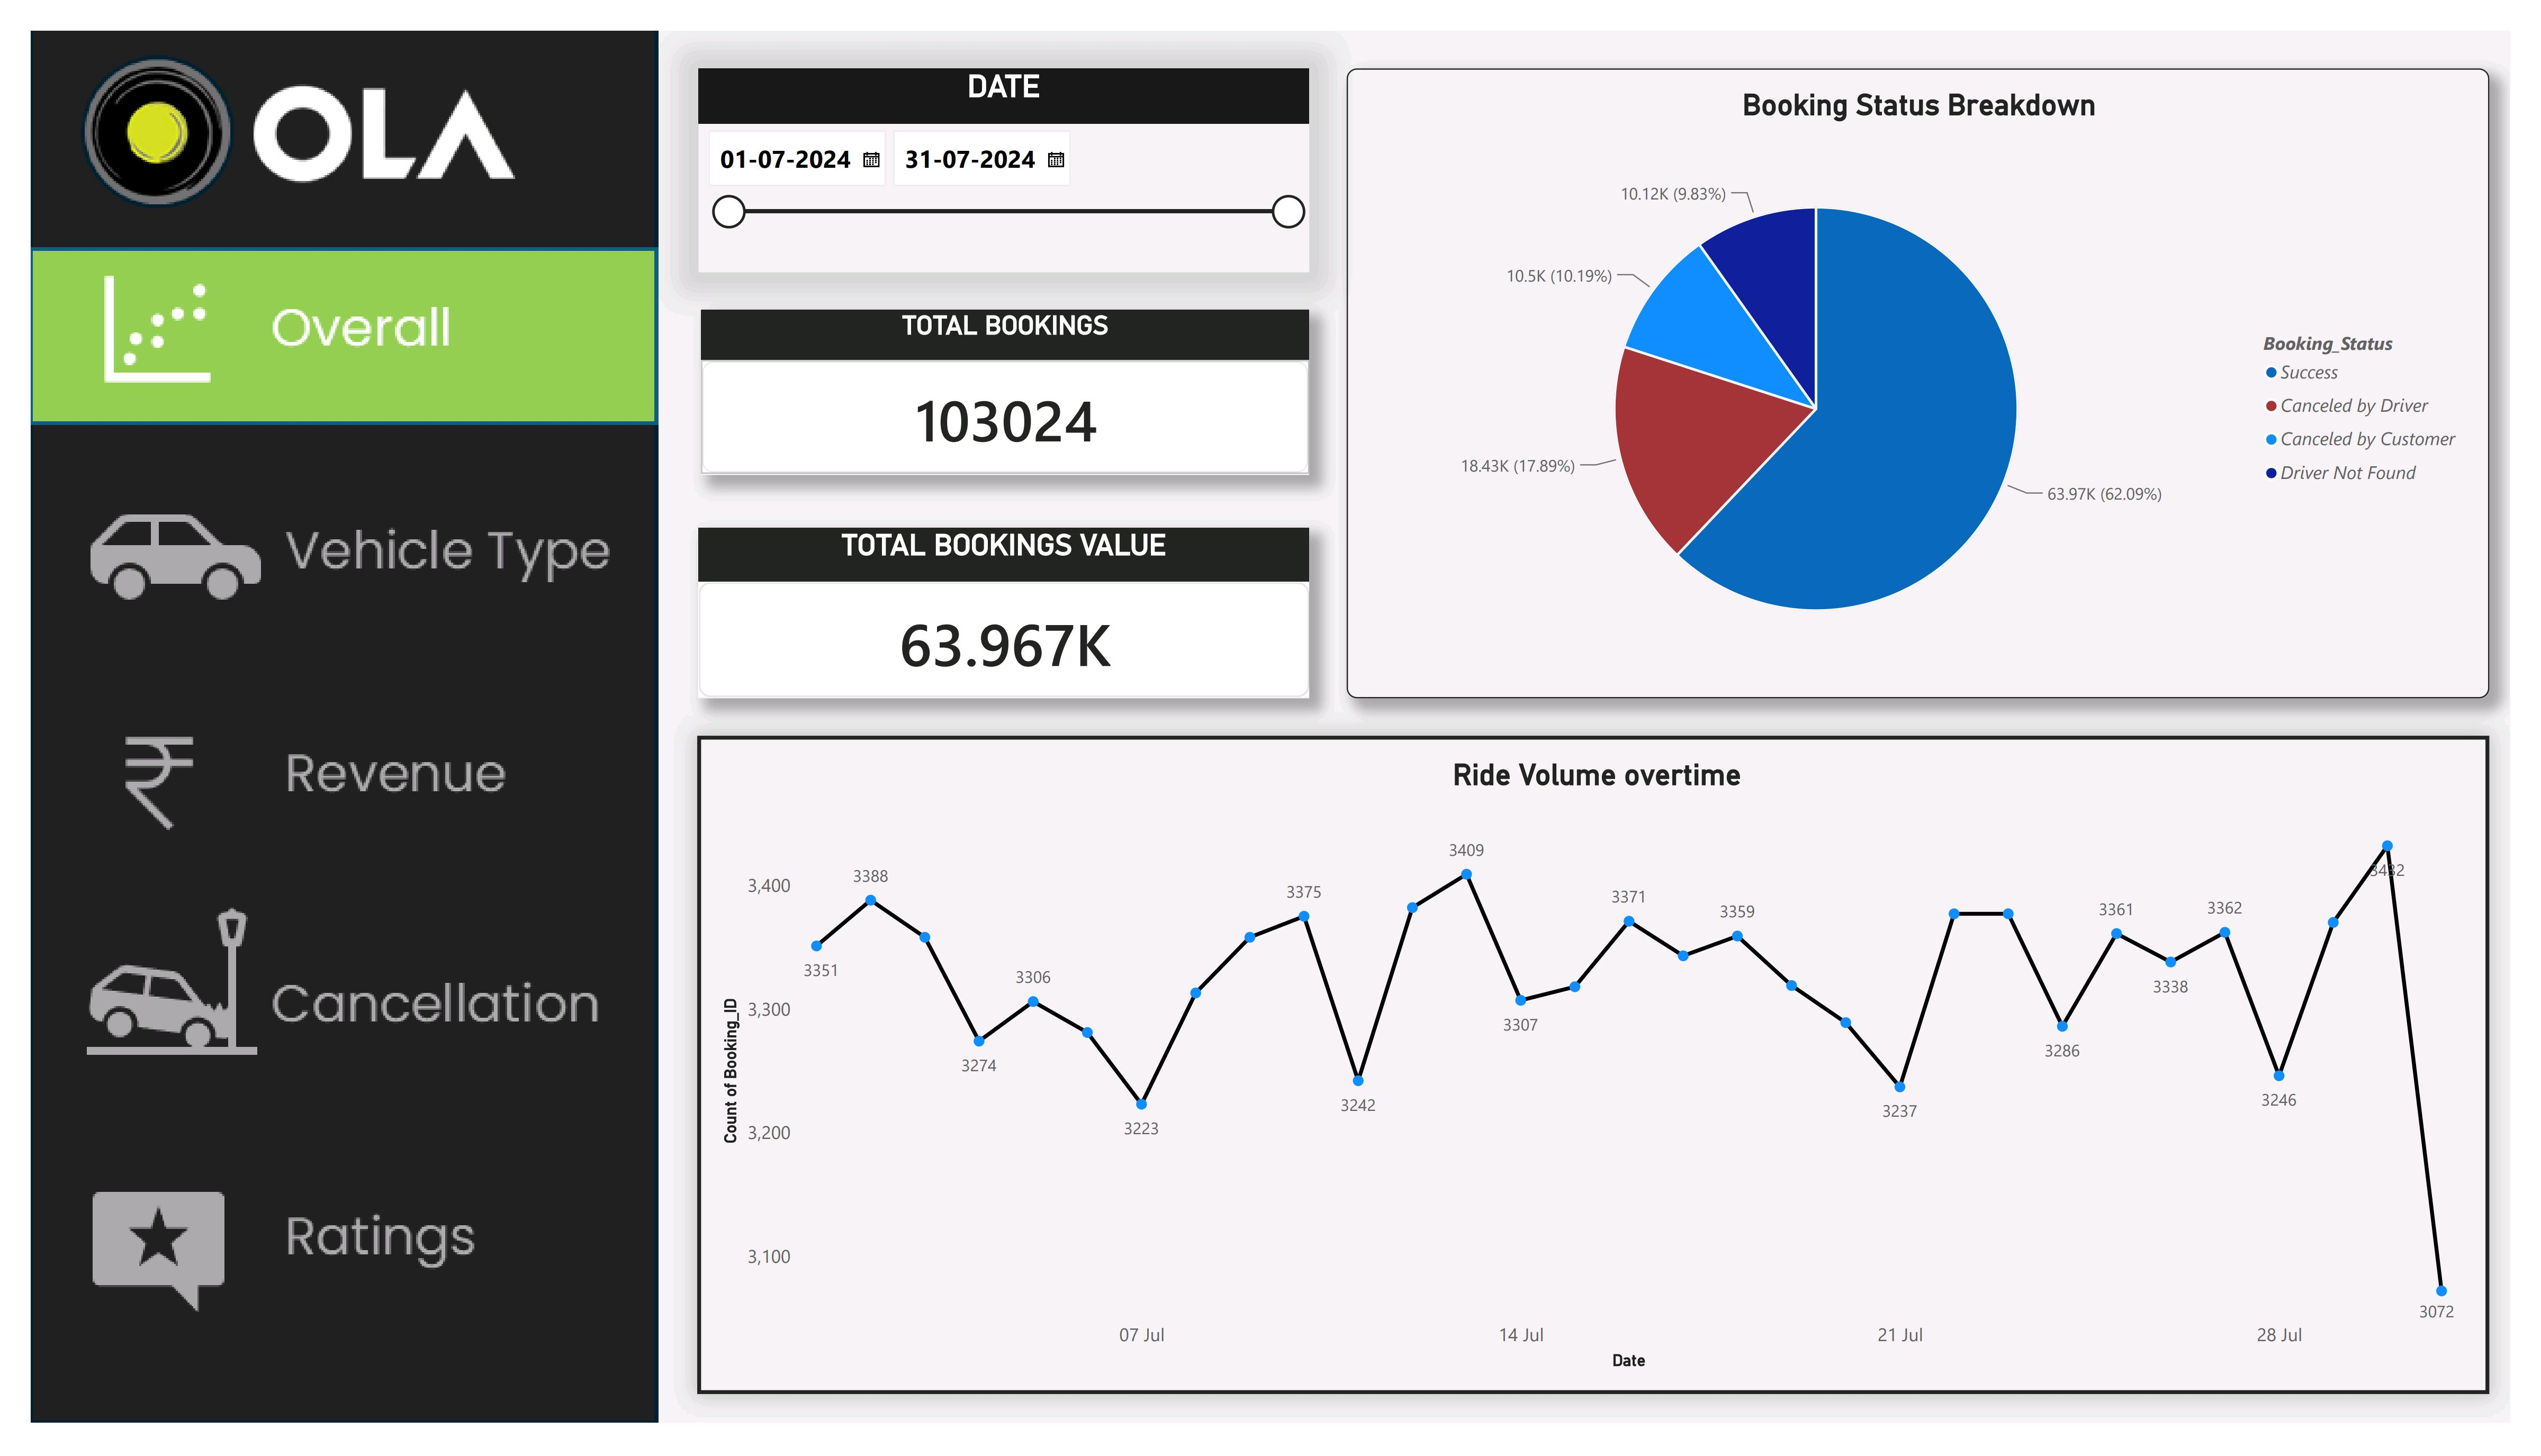

The page's visual inventory and layout, read from the dashboard file:
{"tool":"powerbi","page":{"name":"Overall","canvas":[1920,1080],"ordinal":0},"visuals":[{"type":"actionButton","box":[0,343.5,487,128.3],"z":0},{"type":"actionButton","box":[0,515.2,487,128.3],"z":1000},{"type":"actionButton","box":[0,673.9,487,128.3],"z":2000},{"type":"actionButton","box":[0,873.9,487,128.3],"z":3000},{"type":"lineChart","title":"Ride Volume overtime","fields":{"Y":["CountNonNull(Bookings.Booking_ID)"],"Category":["Bookings.Date"]},"box":[516,546,1388,510],"z":4000},{"type":"pieChart","title":" Booking Status Breakdown","fields":{"Category":["Bookings.Booking_Status"],"Y":["CountNonNull(Bookings.Booking_Status)"]},"box":[1018.9,28.8,885.1,487.8],"z":5000},{"type":"slicer","title":"DATE","fields":{"Values":["Bookings.Date"]},"box":[516.6,28.8,473.4,158.5],"z":6000},{"type":"cardVisual","title":"TOTAL BOOKINGS","fields":{"Data":["Count(Bookings.Booking_ID)"]},"box":[518.7,216.1,471.4,127.6],"z":7000},{"type":"cardVisual","title":"TOTAL BOOKINGS VALUE","fields":{"Data":["Count(Bookings.Booking_ID)"]},"box":[516.6,384.9,473.4,131.7],"z":8000}]}

Visuals, with their boxes in screenshot pixels (x1, y1, x2, y2), scaled from the page's 1920x1080 canvas onto the 2541x1456 screenshot:
actionButton: pyautogui.locateOnScreen(0, 463, 645, 636)
actionButton: pyautogui.locateOnScreen(0, 694, 645, 867)
actionButton: pyautogui.locateOnScreen(0, 909, 645, 1081)
actionButton: pyautogui.locateOnScreen(0, 1178, 645, 1351)
"Ride Volume overtime" lineChart: pyautogui.locateOnScreen(683, 736, 2520, 1424)
" Booking Status Breakdown" pieChart: pyautogui.locateOnScreen(1348, 39, 2520, 697)
"DATE" slicer: pyautogui.locateOnScreen(684, 39, 1310, 252)
"TOTAL BOOKINGS" cardVisual: pyautogui.locateOnScreen(687, 291, 1310, 463)
"TOTAL BOOKINGS VALUE" cardVisual: pyautogui.locateOnScreen(684, 519, 1310, 697)
